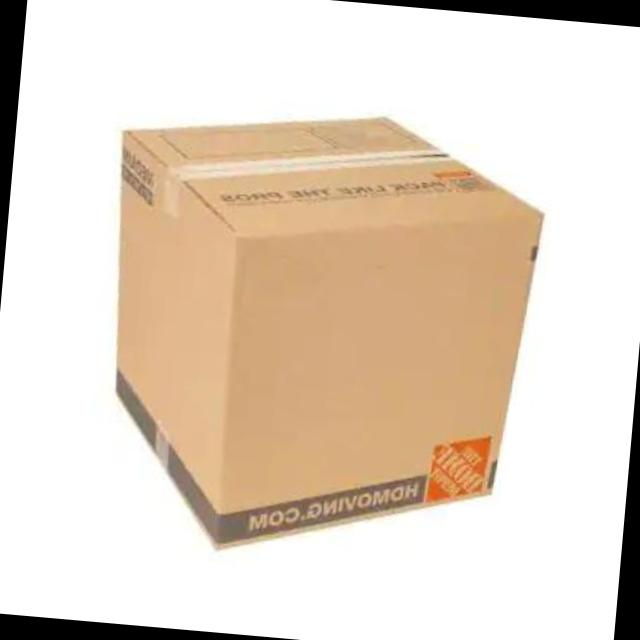box: (80, 93, 553, 582)
